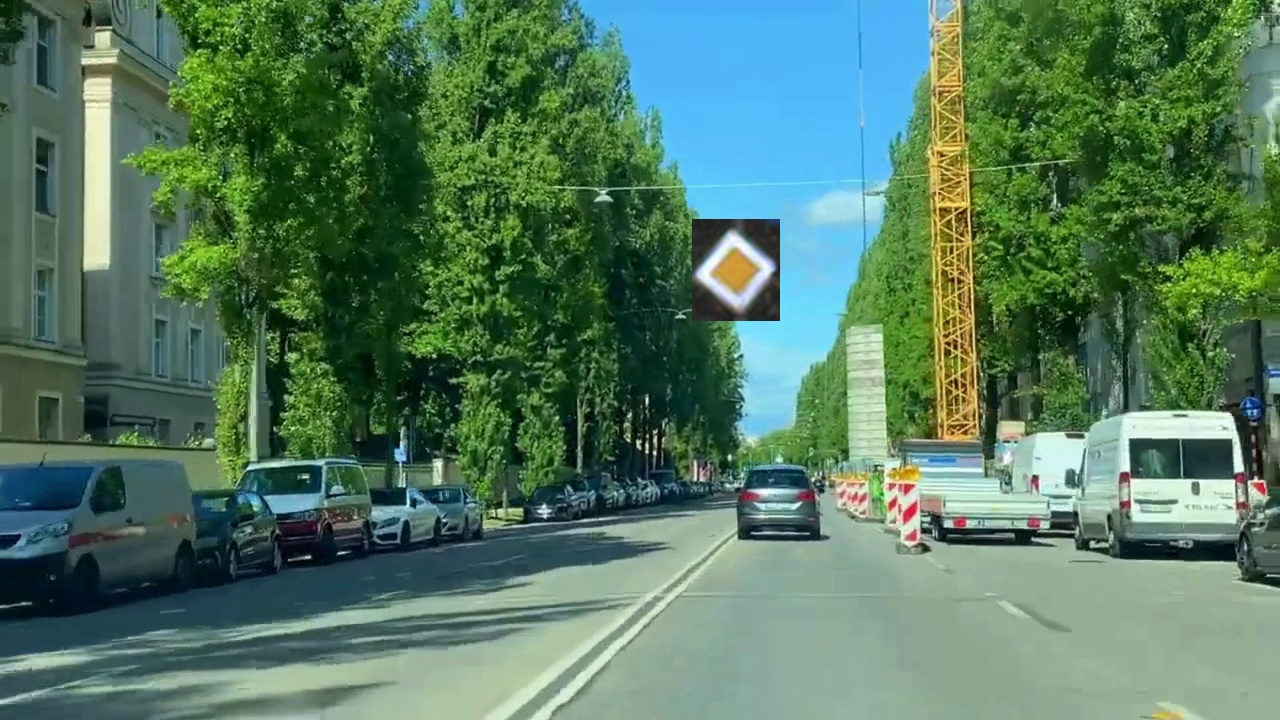Priority road: (692, 219, 780, 321)
